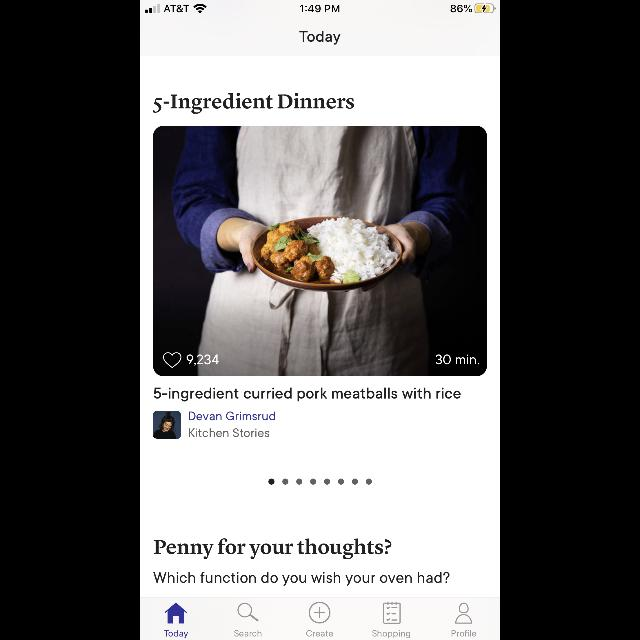icon: (309, 602, 331, 624), (165, 602, 187, 624), (238, 602, 258, 622), (454, 602, 472, 624), (384, 602, 401, 624), (163, 352, 181, 368)
image: (154, 126, 486, 376), (154, 411, 180, 439)
pageindicator: (268, 479, 372, 485)
text: (154, 538, 392, 560), (153, 92, 354, 114), (154, 387, 460, 401), (154, 572, 450, 586), (189, 428, 269, 438), (189, 412, 275, 421), (300, 31, 340, 45), (436, 355, 478, 365), (187, 354, 219, 366), (372, 630, 410, 638), (164, 630, 188, 638), (234, 630, 262, 636), (306, 630, 334, 636), (452, 630, 476, 636)
uppertaskbar: (140, 0, 500, 14)
